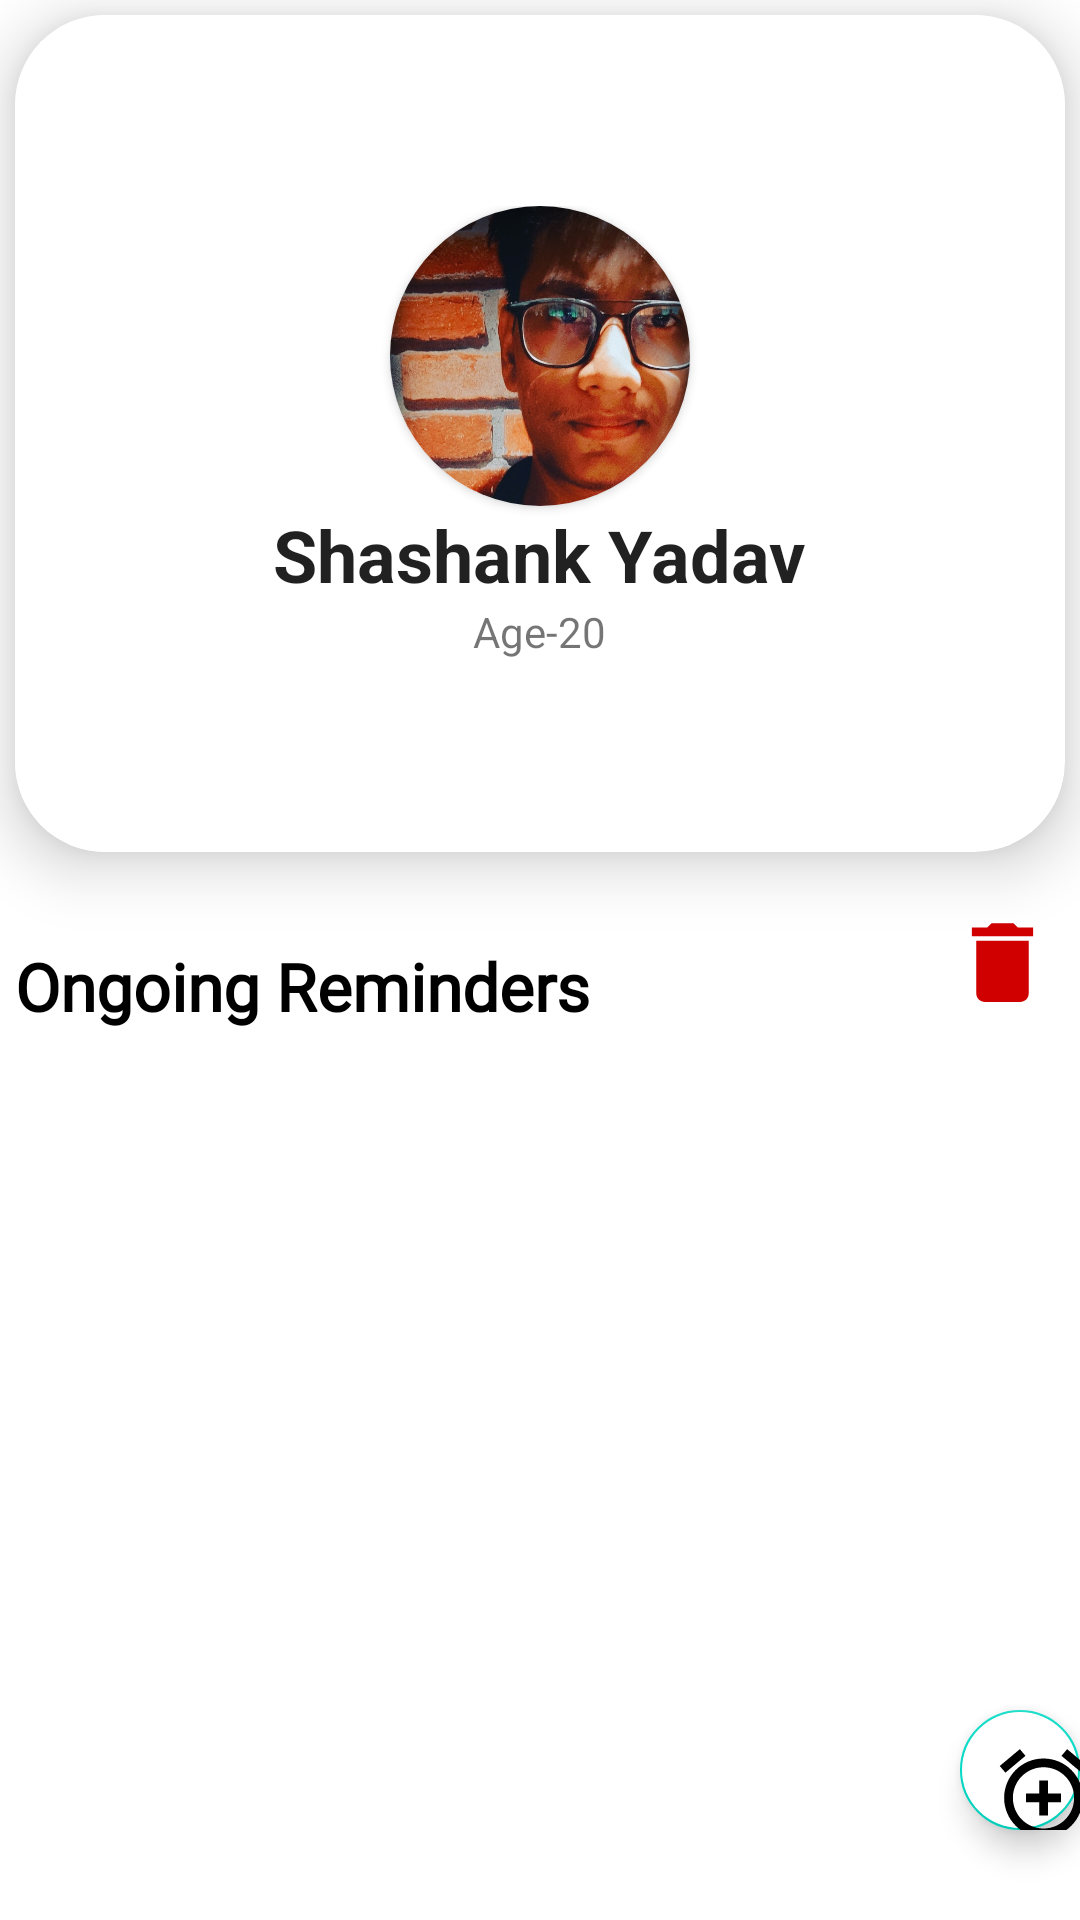

Icon click points for this 1080w x 1920h phone screenshot, format (x,y):
delete: (1002,962)
profile: (540,356)
